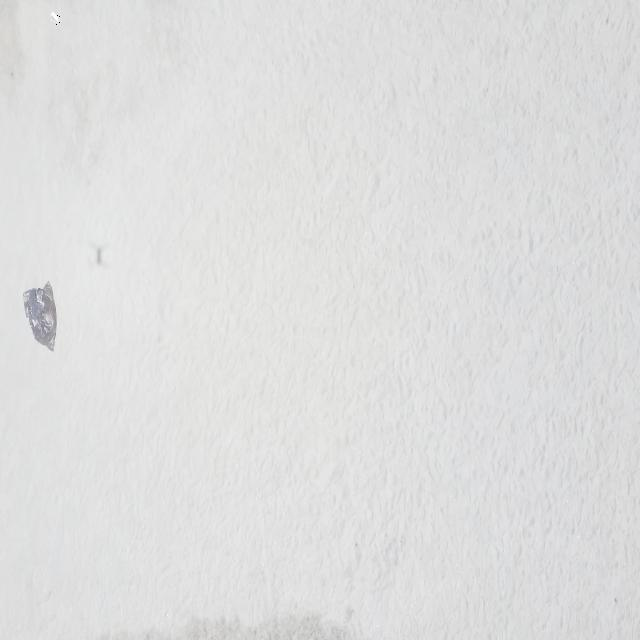Garbage: (23, 281, 55, 350)
